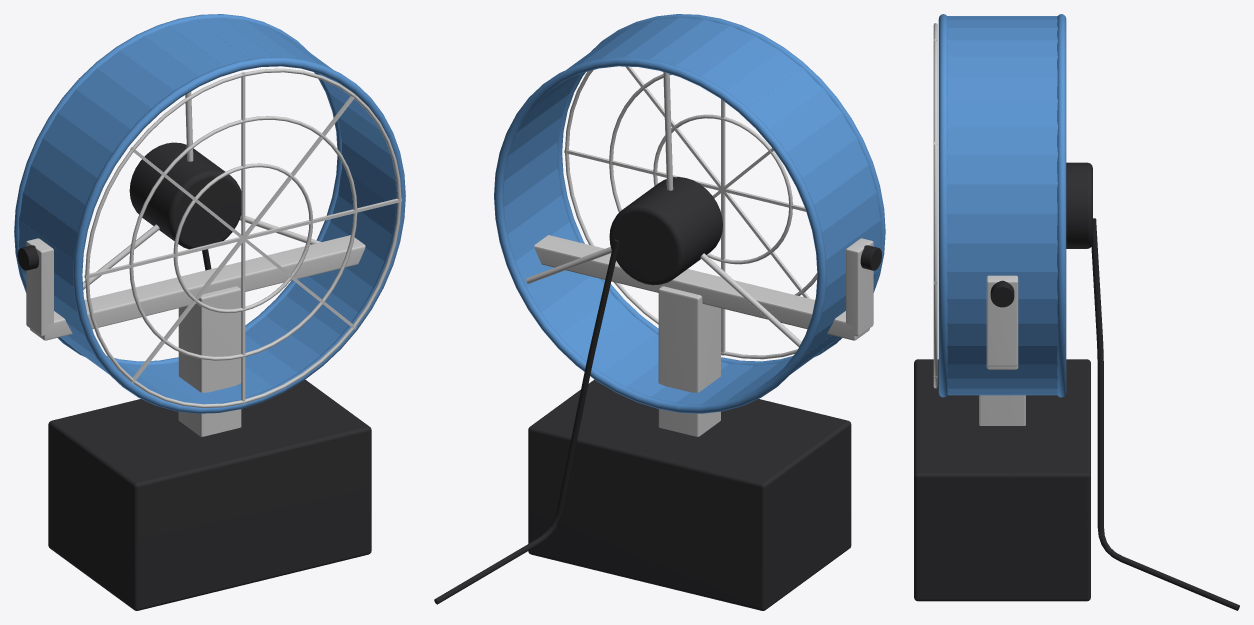
Rendered from dyno_fan.glb.
3 views of the same model, side by side, from view 1: azimuth 30°, elevation 25°; view 2: azimuth 150°, elevation 25°; view 3: azimuth 270°, elevation 25° (orthographic).
Parts seen in each view (by area): view 1: SM_dyno_fan; view 2: SM_dyno_fan; view 3: SM_dyno_fan.
Boxes of the visible parts, left/top/right/bottom form: SM_dyno_fan: left=14, top=14, right=405, bottom=610; SM_dyno_fan: left=434, top=14, right=885, bottom=610; SM_dyno_fan: left=914, top=14, right=1239, bottom=610.
Size of the model in its own units: 1.1 by 1.44 by 0.8286.
